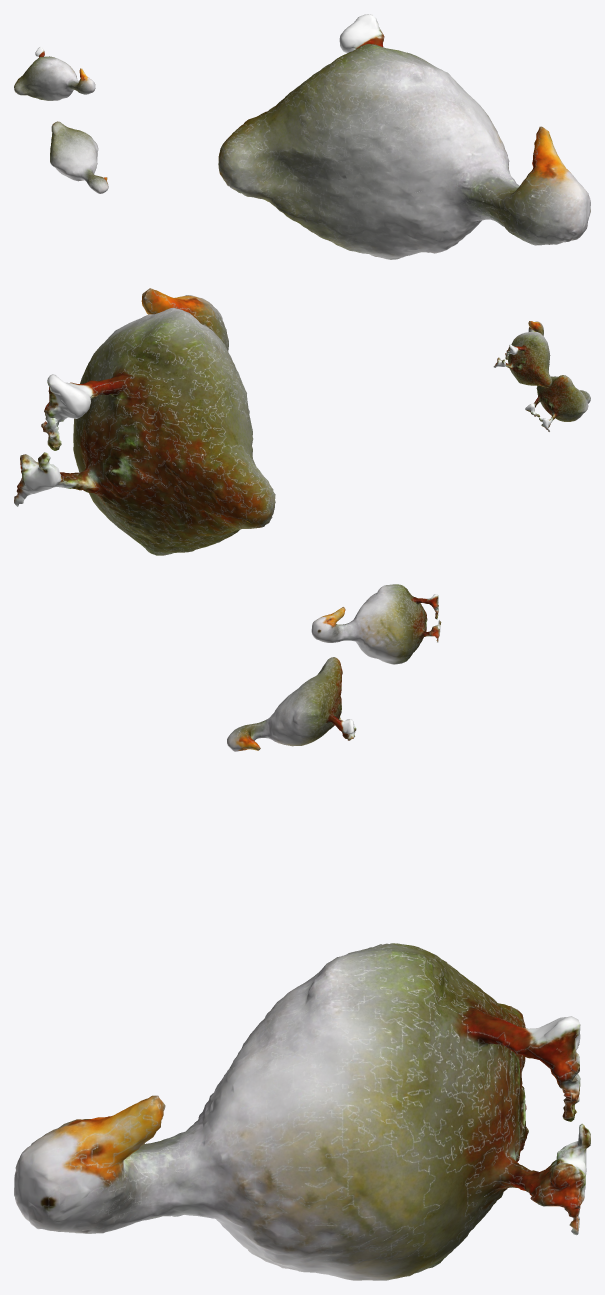
File: duck_2.glb
3 renders of one model, top to bottom at view 1: azimuth 30°, elevation 25°; view 2: azimuth 150°, elevation 25°; view 3: azimuth 270°, elevation 25°, orthographic. The views are drawn at different scales.
Visible parts, largest first — view 1: model, model.001, model.002; view 2: model, model.002, model.001; view 3: model, model.002, model.001.
Boxes of the visible parts, x1,y1,x2,y2 form: model: [218, 14, 590, 259]; model.001: [50, 121, 108, 193]; model.002: [14, 47, 95, 100]; model: [14, 288, 275, 555]; model.002: [493, 321, 551, 387]; model.001: [525, 375, 590, 431]; model: [14, 943, 590, 1280]; model.002: [311, 584, 441, 664]; model.001: [227, 657, 356, 751].
Bounding box in the file's own units: 1.73 × 0.9918 × 1.19.
Materials: 3 (3 with a texture image).
